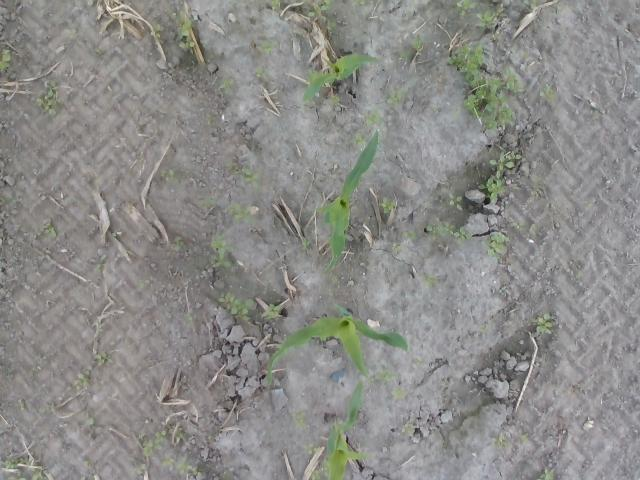Maize: (266, 302, 409, 390), (318, 129, 380, 274), (326, 382, 377, 480), (303, 51, 382, 105)
Weeds: (450, 45, 524, 132), (477, 152, 526, 203), (140, 427, 184, 456), (220, 292, 253, 319), (4, 458, 44, 480), (172, 12, 195, 50), (481, 230, 510, 258), (428, 222, 468, 242), (162, 458, 202, 478), (208, 236, 232, 268), (37, 83, 59, 117), (225, 204, 257, 222), (400, 36, 423, 60), (534, 313, 554, 334), (308, 1, 328, 22), (262, 302, 282, 320), (377, 366, 398, 383), (474, 11, 494, 27), (0, 48, 12, 73), (539, 84, 557, 100), (242, 170, 260, 186), (160, 169, 180, 183), (514, 224, 536, 236), (448, 192, 462, 210), (458, 0, 475, 14), (95, 352, 111, 366), (294, 414, 308, 430), (366, 111, 381, 125), (257, 42, 276, 53), (539, 468, 556, 480), (381, 198, 395, 212), (78, 374, 90, 390), (150, 23, 164, 36), (402, 422, 417, 434), (97, 254, 106, 274), (198, 198, 215, 208), (306, 444, 320, 456), (424, 276, 438, 287), (352, 134, 366, 145), (388, 91, 400, 103), (174, 237, 186, 249), (495, 434, 506, 447), (46, 223, 56, 237), (220, 80, 233, 90), (186, 313, 196, 325), (524, 0, 536, 10), (136, 463, 148, 473), (85, 417, 95, 428), (228, 164, 240, 173), (330, 96, 340, 106), (205, 112, 212, 126), (413, 359, 427, 366), (392, 390, 404, 398), (66, 27, 76, 36), (408, 230, 417, 239), (392, 242, 400, 252), (82, 458, 90, 468), (272, 1, 280, 10), (140, 280, 149, 288), (257, 68, 266, 76), (352, 0, 364, 6), (554, 2, 562, 10), (38, 408, 46, 414), (303, 239, 307, 250), (578, 271, 582, 280), (80, 476, 88, 480)
